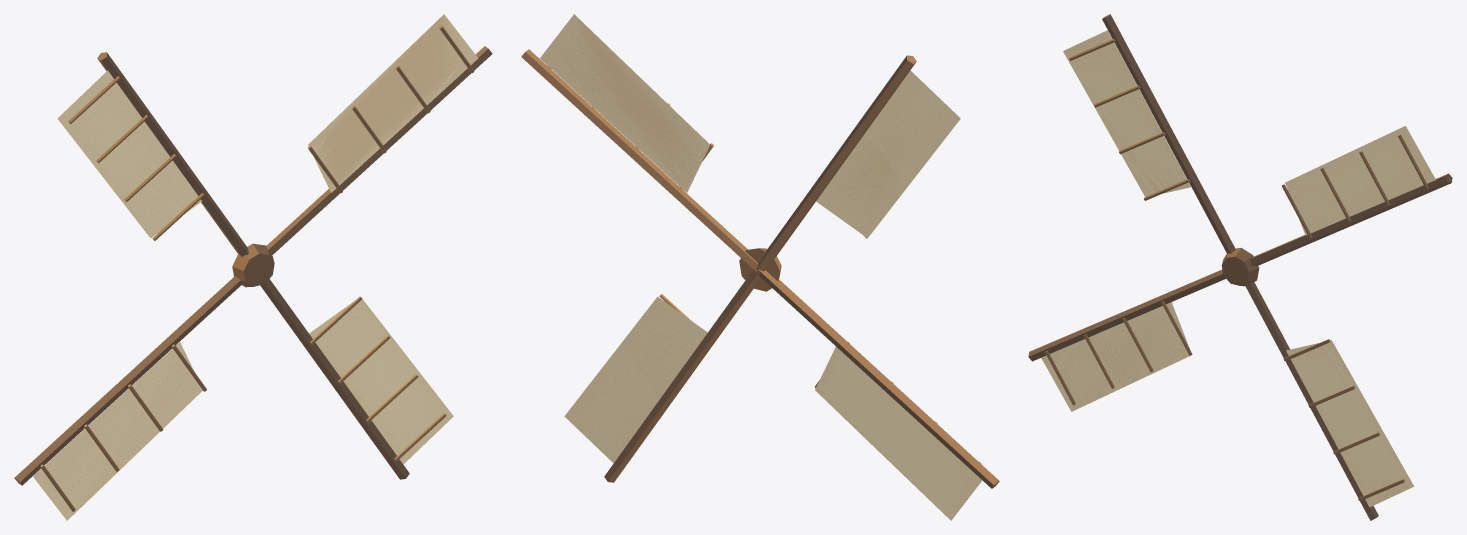
Rendered from windmill_sails.glb.
3 renders of one model, left to right at view 1: azimuth 30°, elevation 25°; view 2: azimuth 150°, elevation 25°; view 3: azimuth 330°, elevation 25°, orthographic. The views are drawn at different scales.
Visible parts, largest first — view 1: Mühlrad · einzeln animiert; view 2: Mühlrad · einzeln animiert; view 3: Mühlrad · einzeln animiert.
Part boxes in pixels (left/top/right/bottom): Mühlrad · einzeln animiert: left=14, top=14, right=492, bottom=520; Mühlrad · einzeln animiert: left=521, top=14, right=999, bottom=520; Mühlrad · einzeln animiert: left=1028, top=14, right=1452, bottom=520.
Size of the model in its own units: 5.78 by 5.78 by 0.1809.
